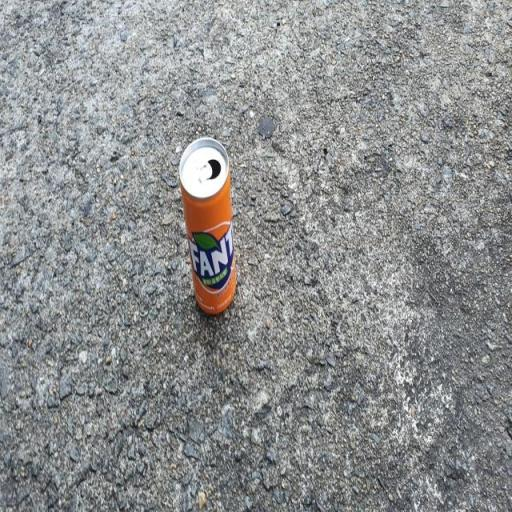metal: (170, 123, 252, 337)
